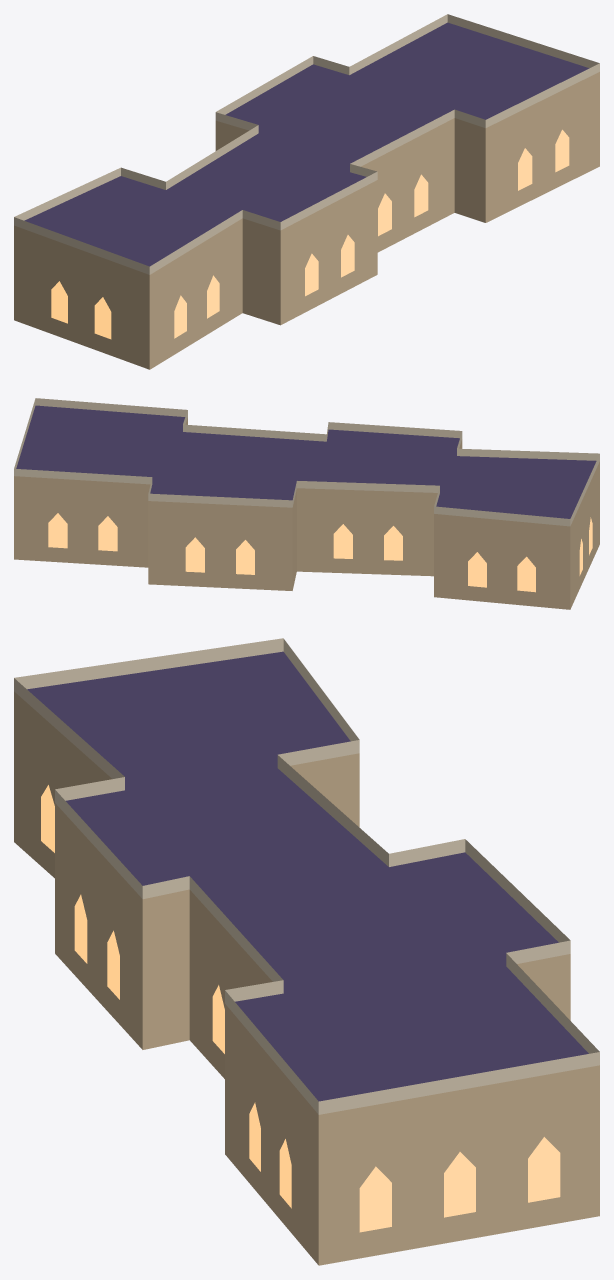
3 renders of one model, top to bottom at view 1: azimuth 30°, elevation 25°; view 2: azimuth 150°, elevation 25°; view 3: azimuth 270°, elevation 25°, orthographic. The views are drawn at different scales.
Parts seen in each view (by area): view 1: campus/b-043-0; view 2: campus/b-043-0; view 3: campus/b-043-0.
Part boxes in pixels (box(x1,y1,x2,y2)): campus/b-043-0: box(14, 14, 599, 369); campus/b-043-0: box(14, 398, 599, 609); campus/b-043-0: box(14, 638, 599, 1265).
Size of the model in its own units: 40.84 by 6.75 by 21.83.
